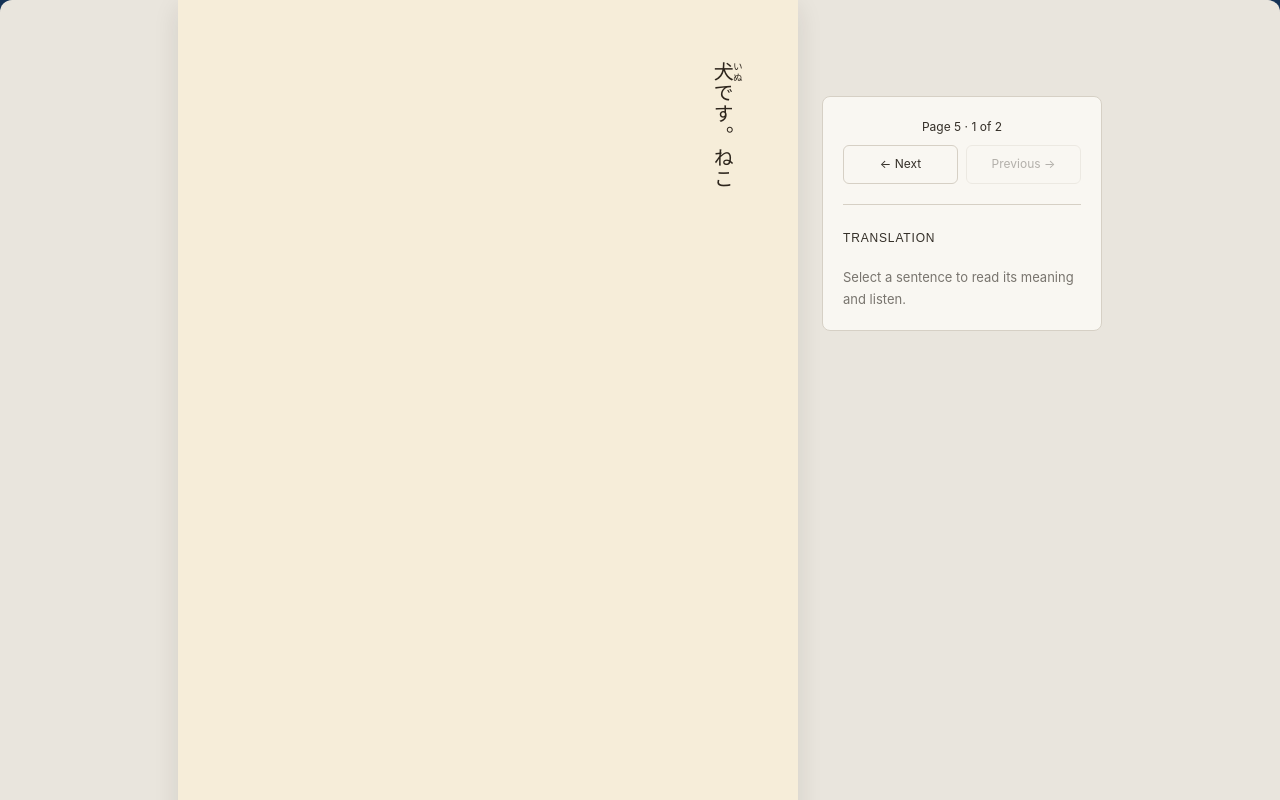
it: private reading interactions › uses Space for the selected sentence and resumes the same audio after pause
Click the button with aria-label "犬です。" at [727, 104], box [711,61,742,147]
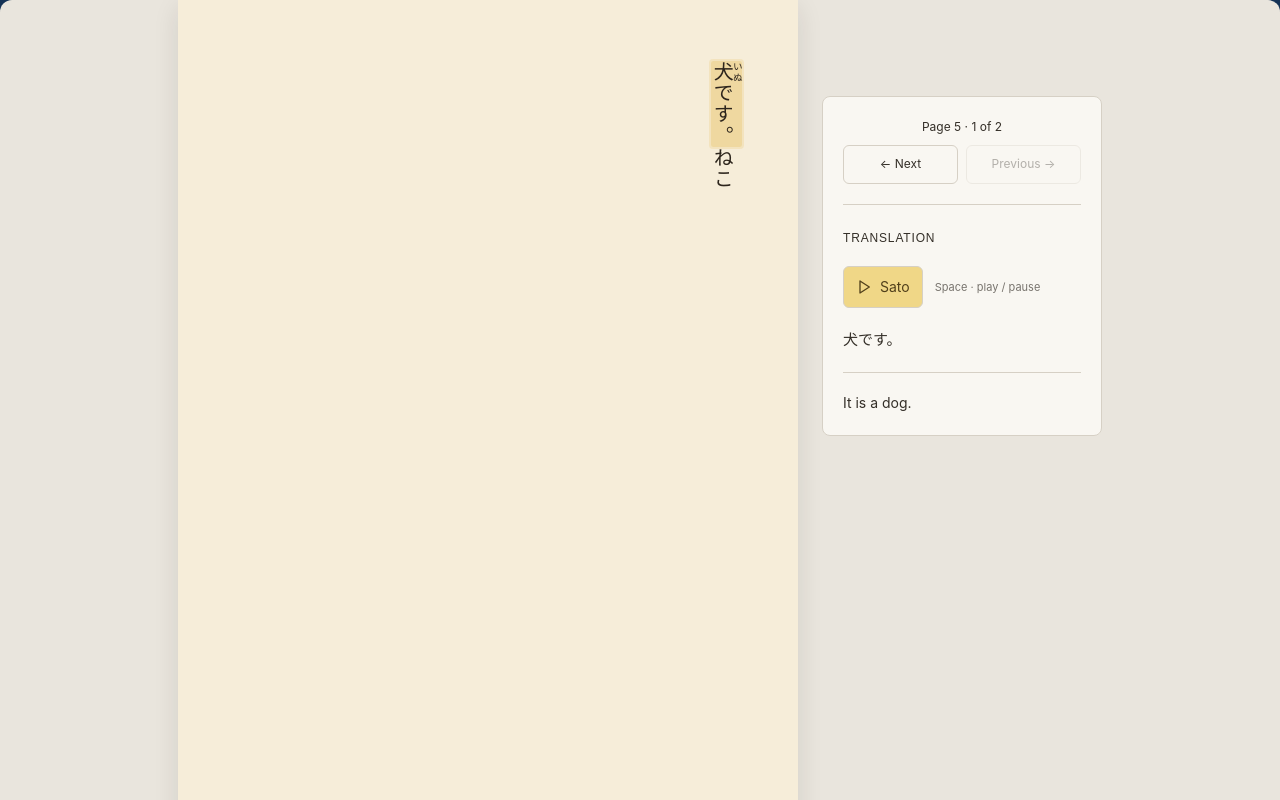
Hover over the button with aria-label "ねこです。" at [721, 168], box [711,147,731,190]
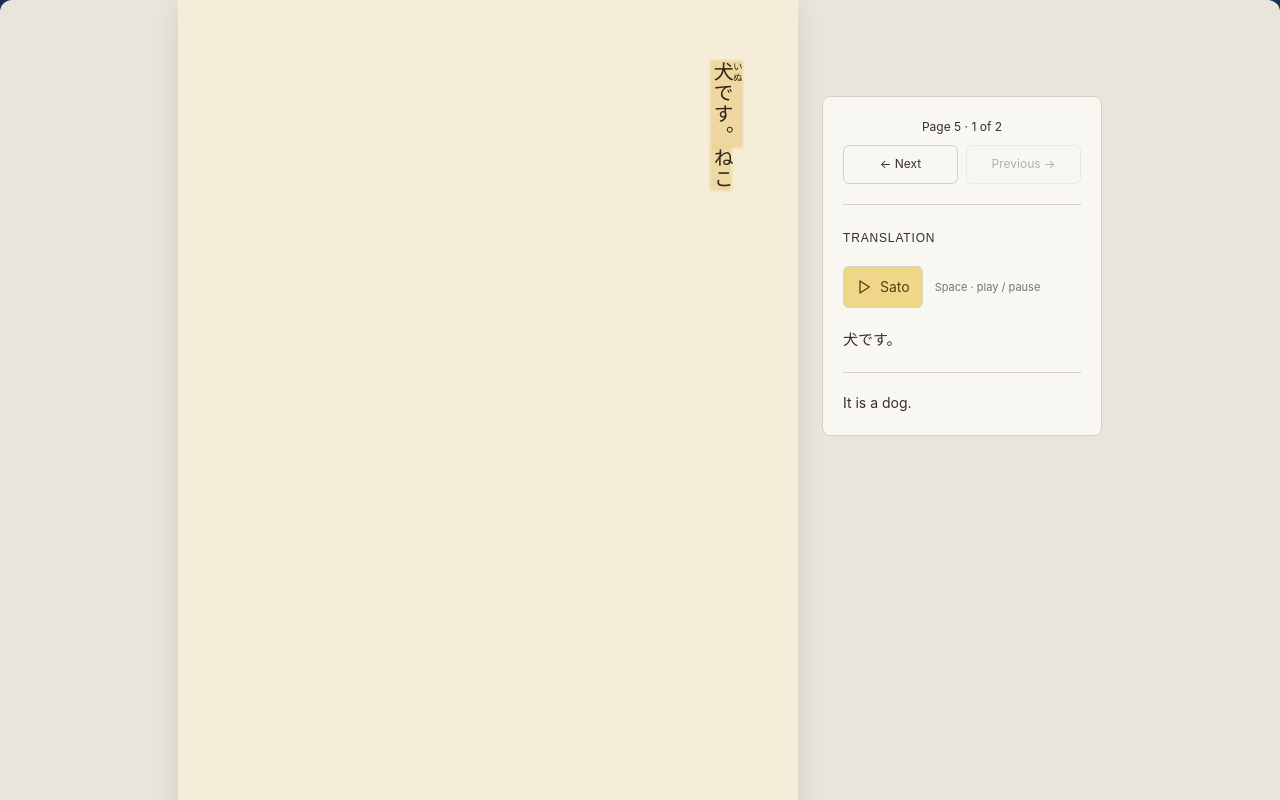
Press Space
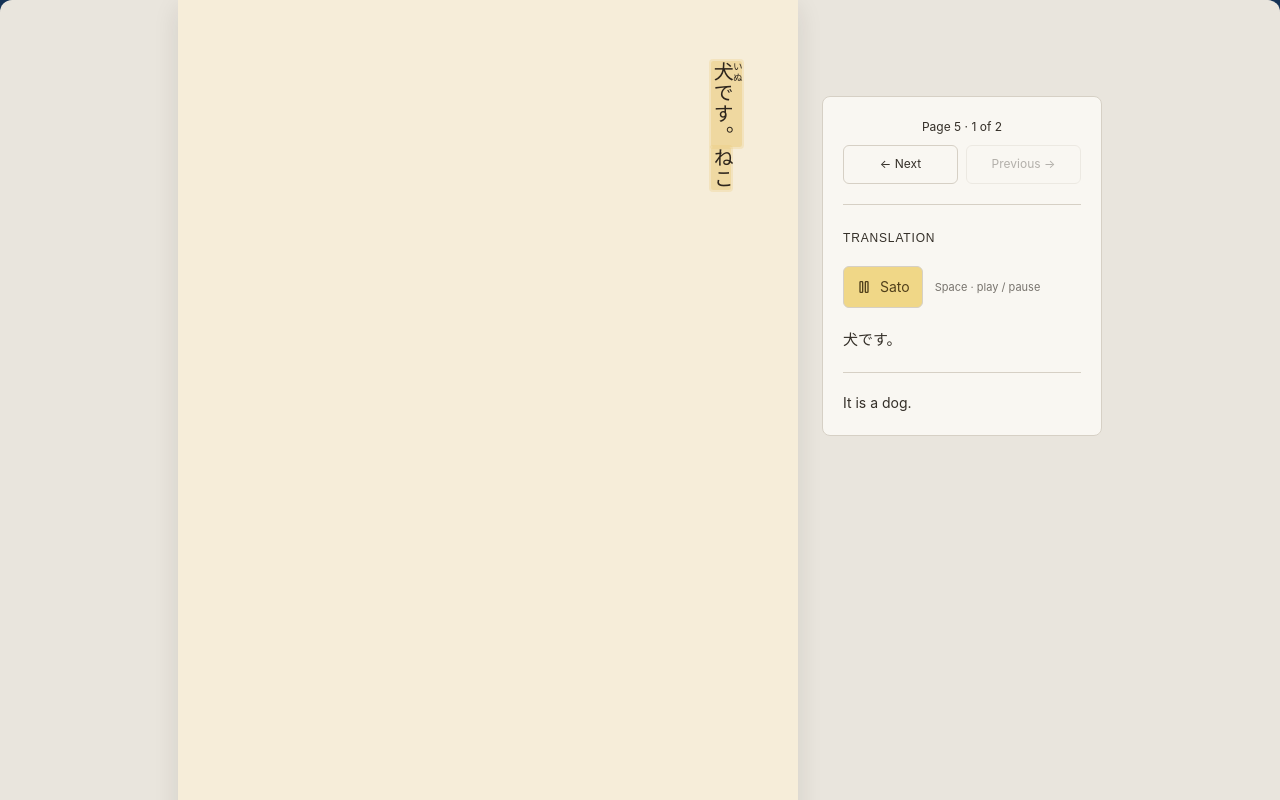
Expected: the button with aria-label "Pause sentence" is shown, [843,266,923,308]
Press Space
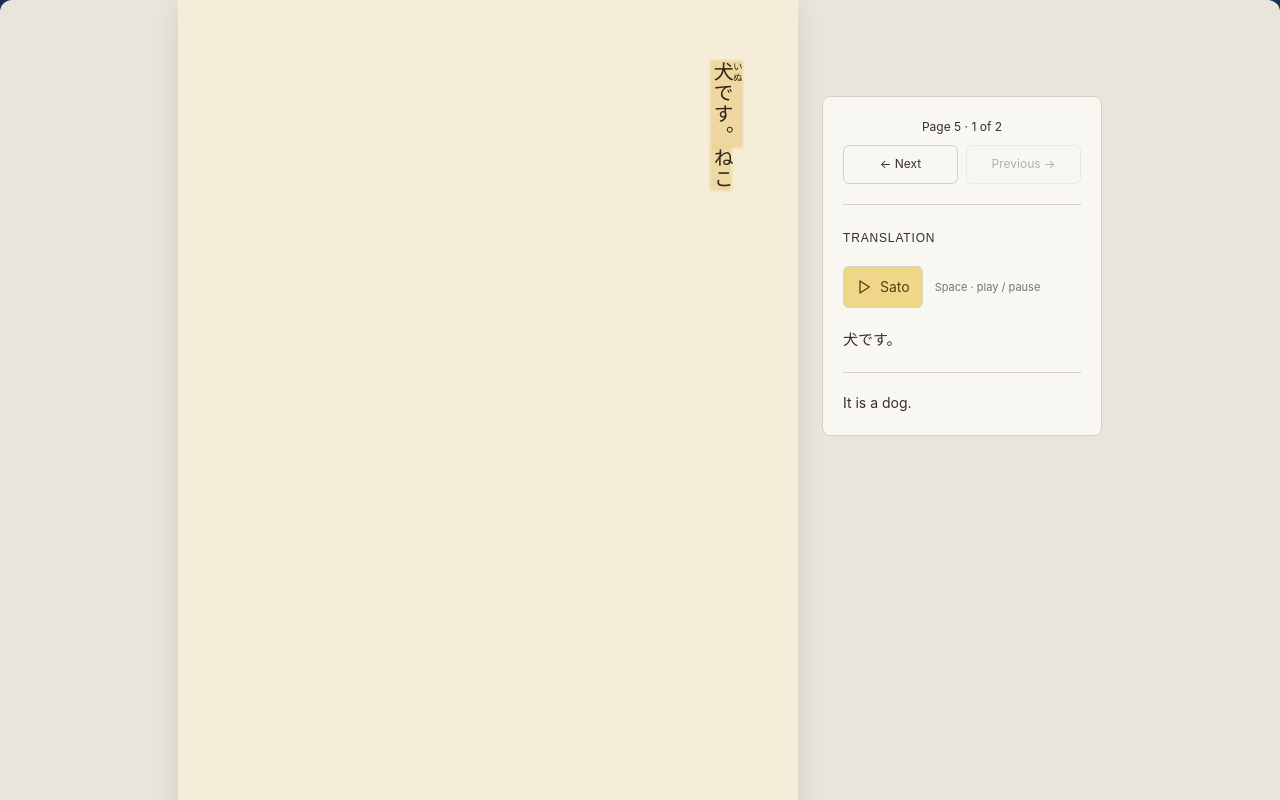
Expected: the button with aria-label "Play sentence" is shown, [843,266,923,308]
Press Space
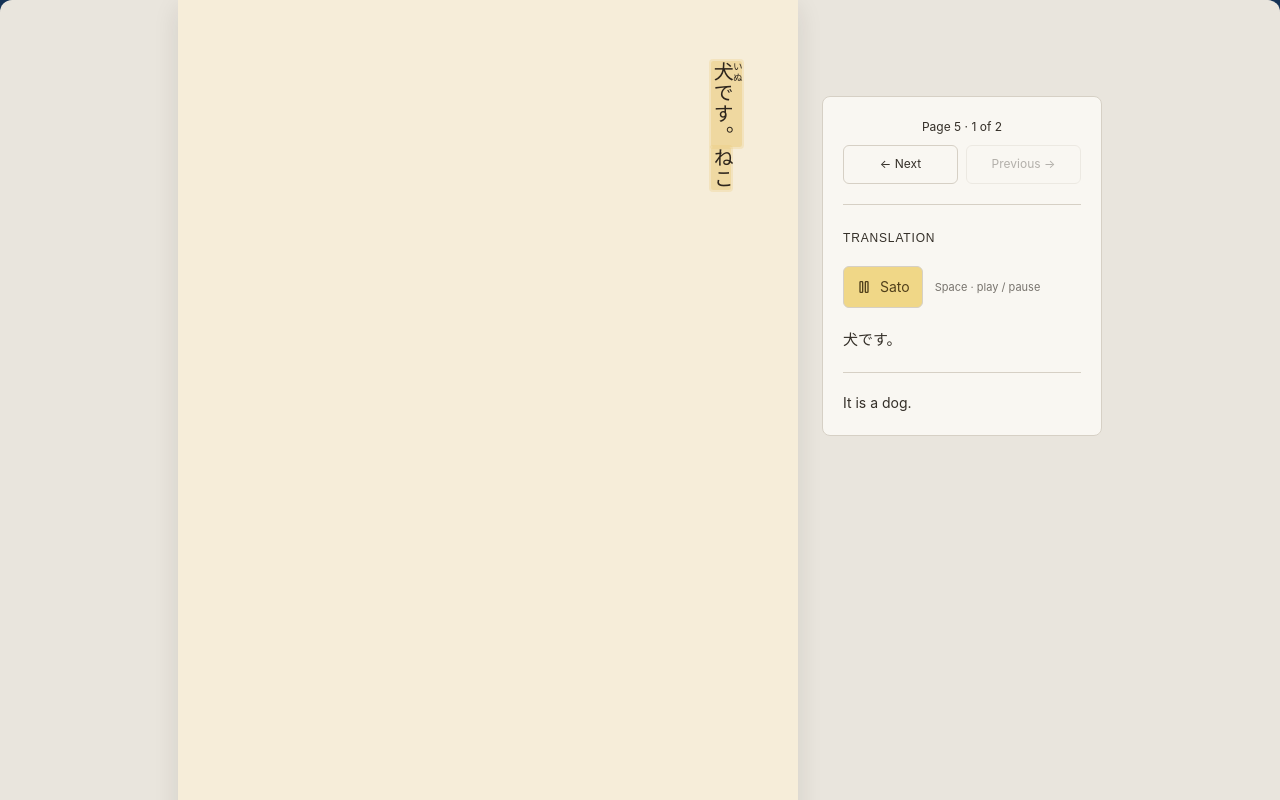
Expected: the button with aria-label "Pause sentence" is shown, [843,266,923,308]
